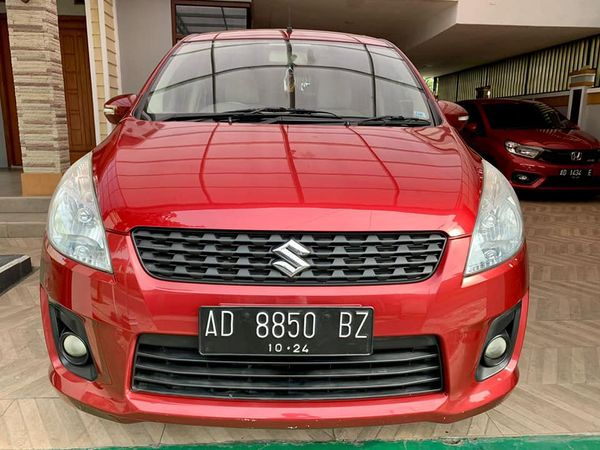plate: (198, 307, 373, 358)
